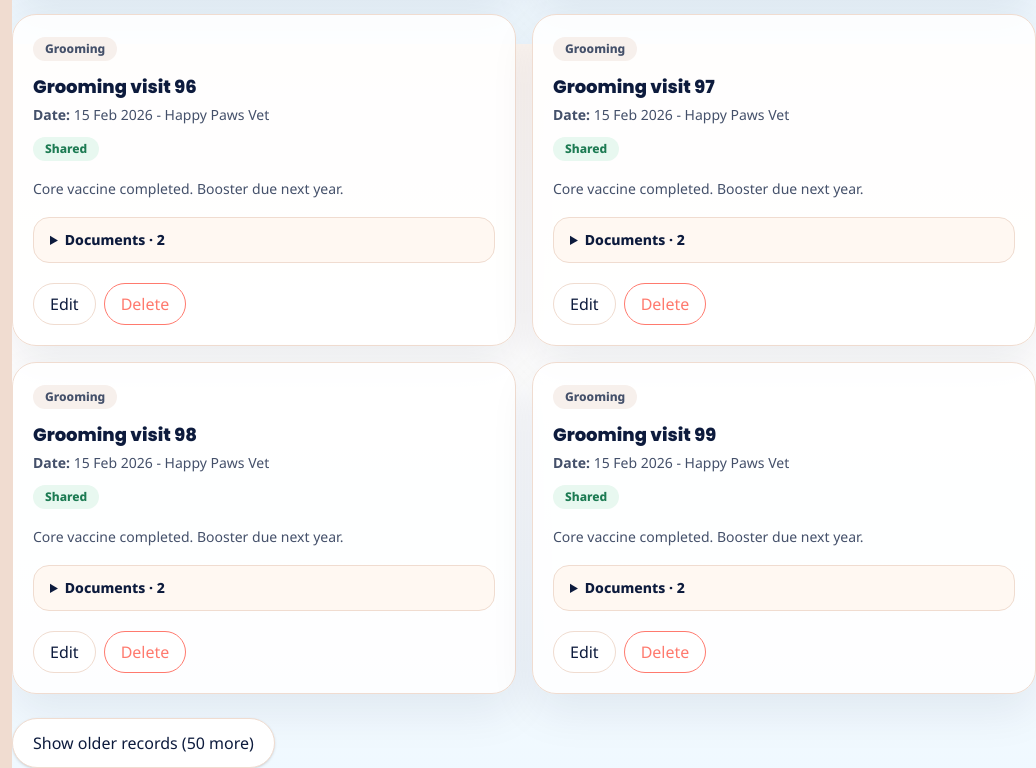
Test: Care history beyond its first page › says the history changed while loading and offers to reload it
The width and height of the screenshot is (1036, 768).
(page scrolled)
Click the button "Show older records (50 more)" at (143, 743), box [12,718,275,767]
(page scrolled)
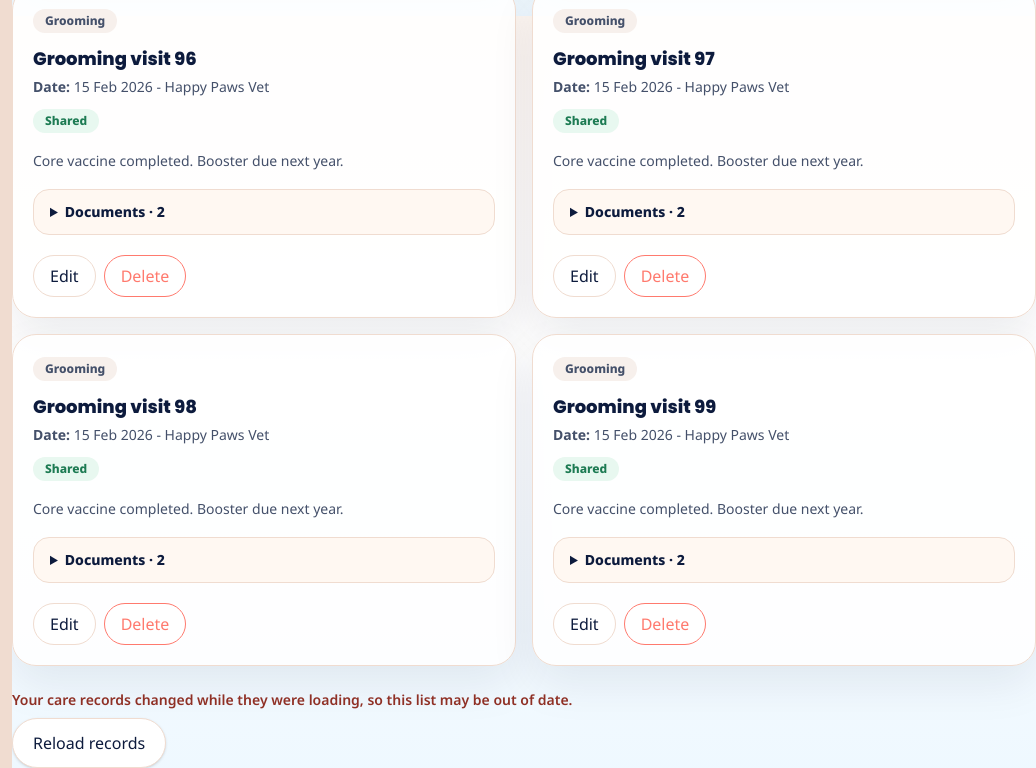
expect the text "records changed while they were loading" is shown: met, box [12,690,572,709]
expect the button "Reload records" is shown: met, box [12,718,166,767]
